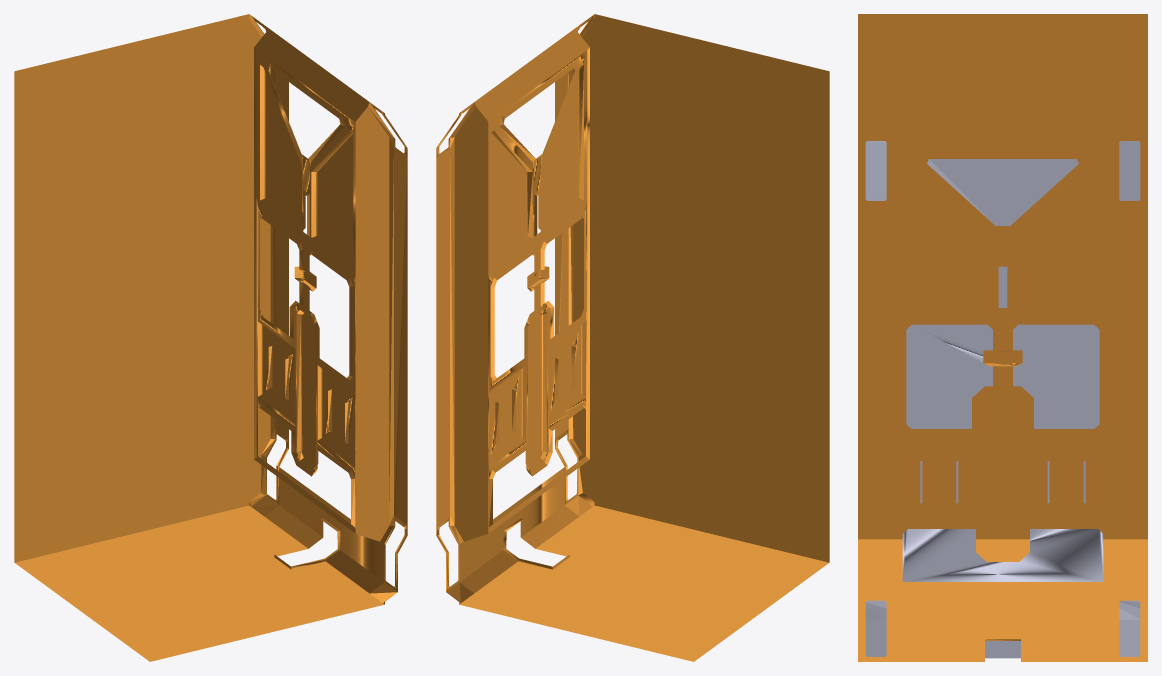
File: uee_stanton_kit_ext_wall_4x4x8_04_reg.glb
3 views of the same model, side by side, from view 1: azimuth 30°, elevation 25°; view 2: azimuth 150°, elevation 25°; view 3: azimuth 270°, elevation 25° (orthographic). The views are drawn at different scales.
Size of the model in its own units: 4.41 by 8 by 4.
